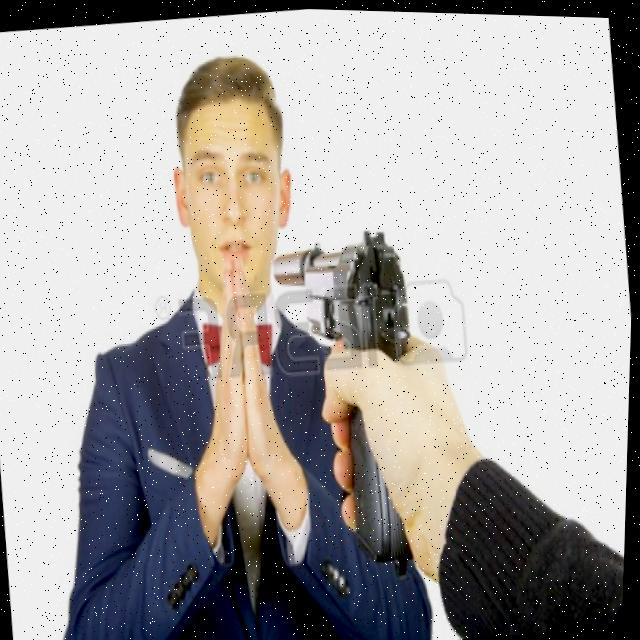pistol: (267, 218, 421, 372)
